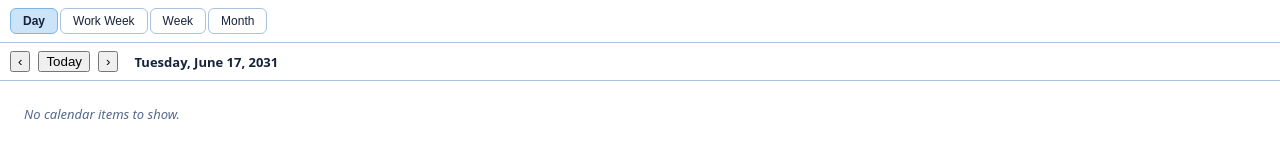
Test: CalendarView › the Today button returns to the simulated clock's date, not the real date, after navigating away
The image size is (1280, 160).
Expected: the text "No calendar items to show." is shown, [24,105,180,123]
Expected: the text "Tuesday, June 17, 2031" is shown, [134,52,278,70]
Click the button named "Next": (108, 62) [98,51,118,72]
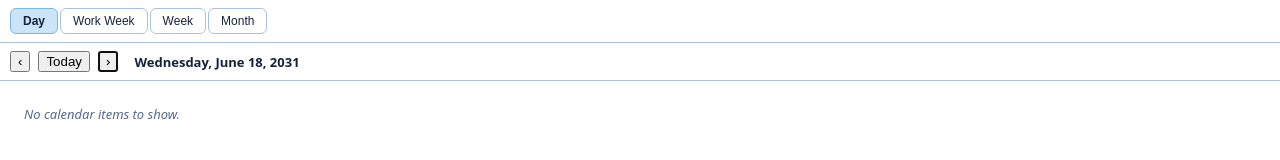
Click the button named "Next": (108, 62) [98,51,118,72]
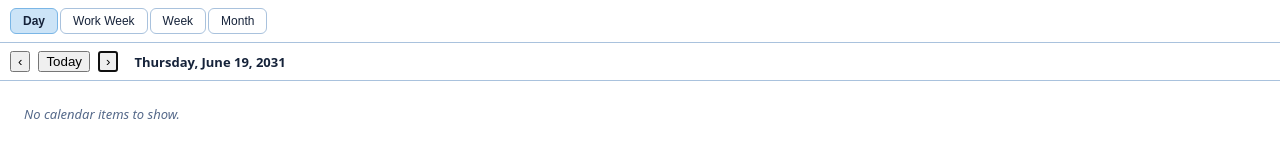
Expected: the text "June 17, 2031" is not shown
Click the button "Today": (64, 62) [38,51,90,72]
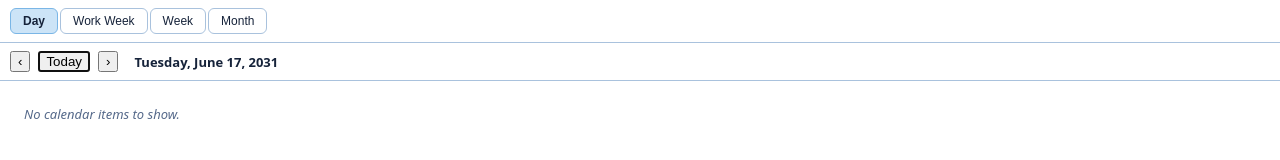
Now the text "Tuesday, June 17, 2031" is shown, box [134,52,278,70]
